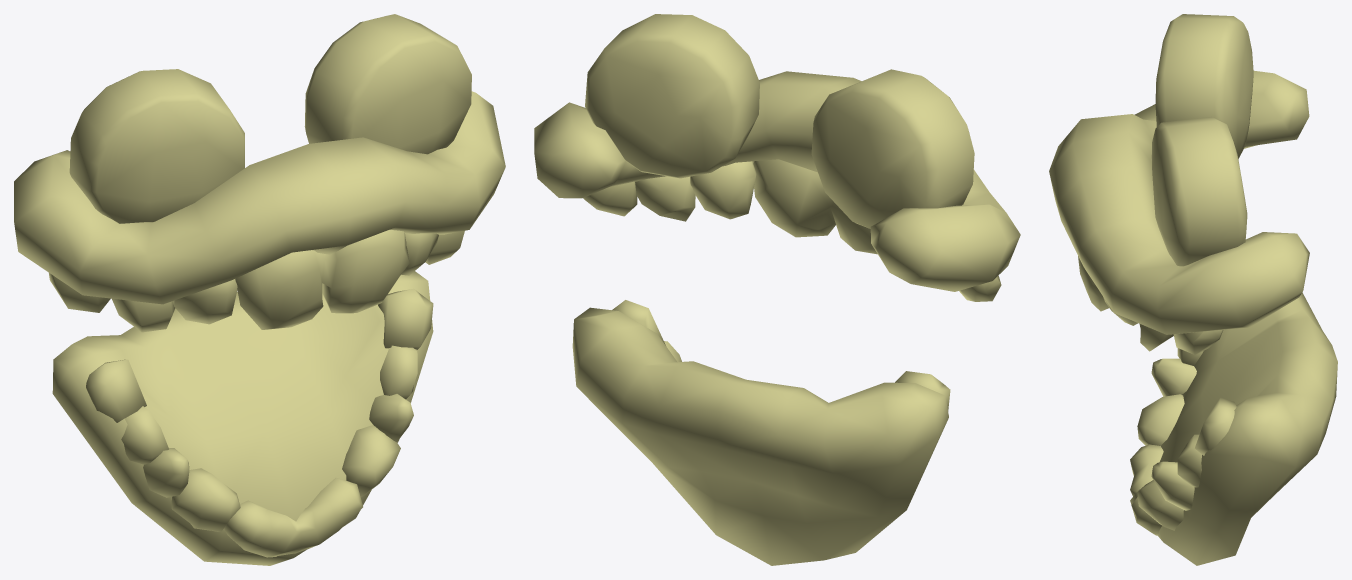
The model's file is SrEnciasBajaUnwraped.fbx.
3 renders of one model, left to right at view 1: azimuth 30°, elevation 25°; view 2: azimuth 150°, elevation 25°; view 3: azimuth 270°, elevation 25°, orthographic. The views are drawn at different scales.
Visible parts, largest first — view 1: Plane002; view 2: Plane002; view 3: Plane002.
Boxes of the visible parts, x1=… form: Plane002: x1=14, y1=14, x2=505, y2=565; Plane002: x1=534, y1=14, x2=1020, y2=565; Plane002: x1=1049, y1=14, x2=1337, y2=565.
Size of the model in its own units: 2.14 by 2.18 by 1.19.
